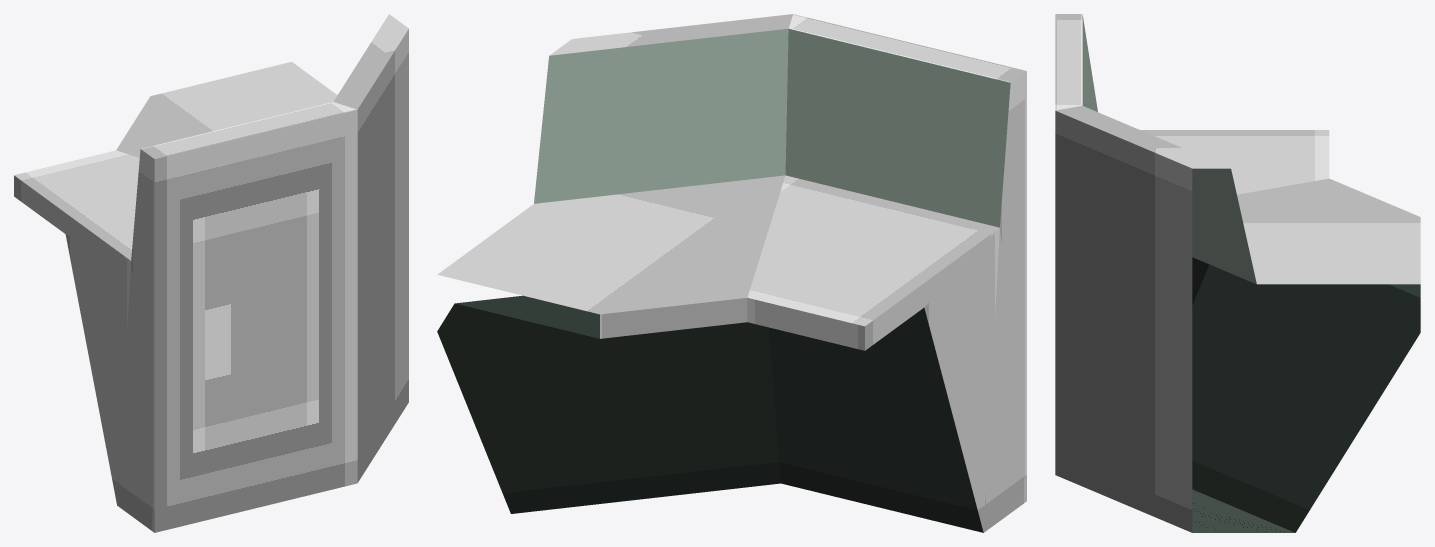
File: run_desk_inside_bend_a_0.obj
The picture shows the model from 3 angles, left to right: view 1: azimuth 30°, elevation 25°; view 2: azimuth 150°, elevation 25°; view 3: azimuth 270°, elevation 25°; orthographic projection. The views are drawn at different scales.
Bounding box in the file's own units: 1 × 1.1 × 1.
